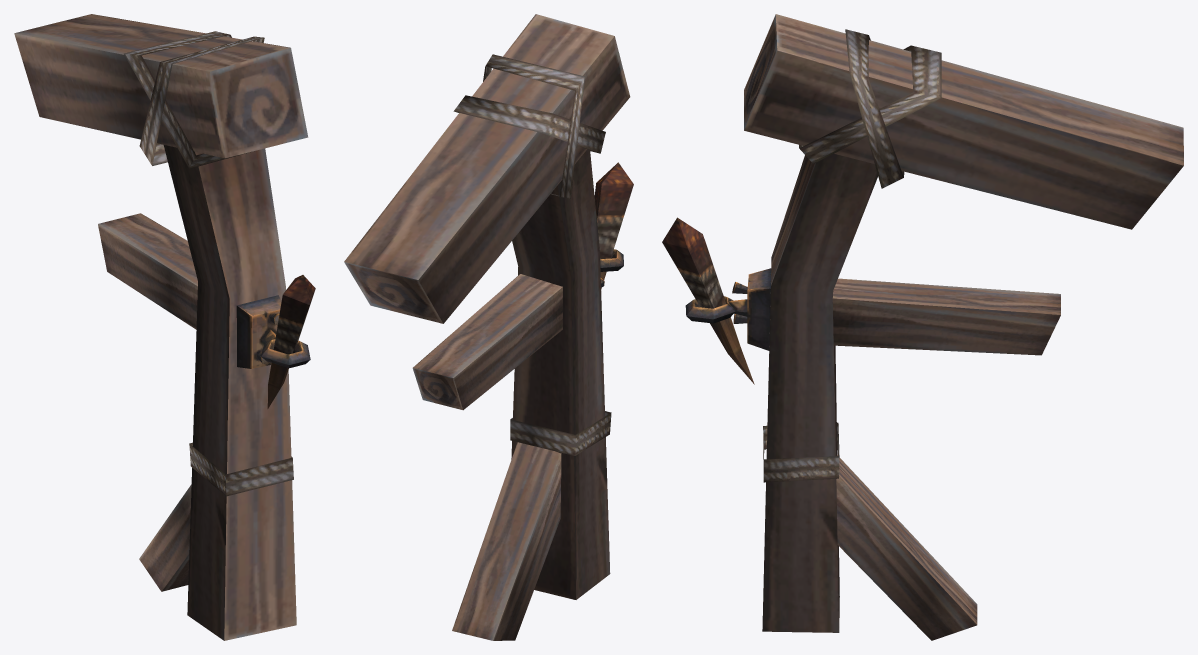
Rendered from mine_wall_support_01.fbx.
The picture shows the model from 3 angles, left to right: view 1: azimuth 30°, elevation 25°; view 2: azimuth 150°, elevation 25°; view 3: azimuth 270°, elevation 25°; orthographic projection. The views are drawn at different scales.
Parts seen in each view (by area): view 1: mine_wall_support_01-0; view 2: mine_wall_support_01-0; view 3: mine_wall_support_01-0.
Boxes of the visible parts, x1,y1,x2,y2 form: mine_wall_support_01-0: (14, 14, 315, 640); mine_wall_support_01-0: (344, 14, 633, 640); mine_wall_support_01-0: (662, 14, 1183, 640).
Size of the model in its own units: 0.9807 by 5.63 by 4.46.
